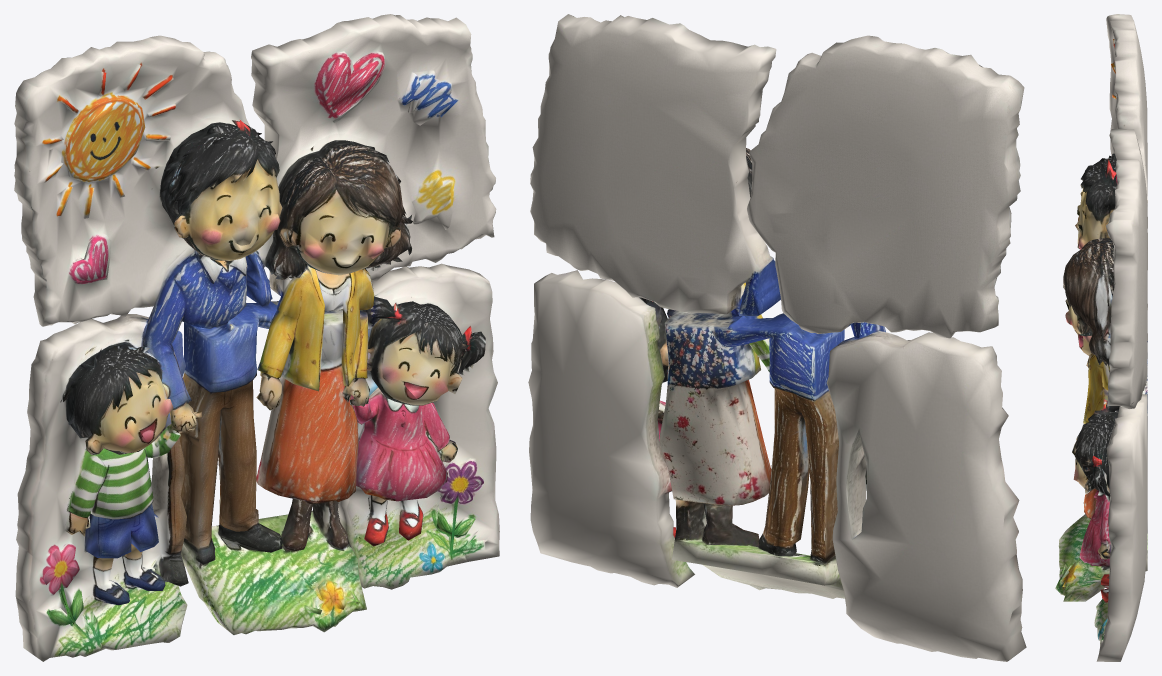
Rendered from tripo_convert_d8b77782-d0fa-4131-bd3d-e82fc1247679.fbx.
The picture shows the model from 3 angles, left to right: view 1: azimuth 30°, elevation 25°; view 2: azimuth 150°, elevation 25°; view 3: azimuth 270°, elevation 25°; orthographic projection. The views are drawn at different scales.
Parts seen in each view (by area): view 1: tripo_part_1, tripo_part_0.001, tripo_part_3, tripo_part_2, tripo_part_0, tripo_part_4; view 2: tripo_part_1, tripo_part_0.001, tripo_part_3, tripo_part_2, tripo_part_0, tripo_part_4; view 3: tripo_part_0.001, tripo_part_2, tripo_part_1, tripo_part_0, tripo_part_3.
Part boxes in pixels (box(x1,y1,x2,y2)): tripo_part_1: box(14, 35, 282, 433); tripo_part_0.001: box(245, 14, 496, 332); tripo_part_3: box(15, 314, 188, 661); tripo_part_2: box(338, 263, 499, 589); tripo_part_0: box(181, 309, 369, 634); tripo_part_4: box(179, 301, 282, 564); tripo_part_1: box(747, 35, 1024, 338); tripo_part_0.001: box(530, 14, 780, 342); tripo_part_3: box(826, 322, 1026, 661); tripo_part_2: box(528, 270, 694, 587); tripo_part_0: box(660, 309, 844, 598); tripo_part_4: box(709, 313, 844, 564); tripo_part_0.001: box(1063, 129, 1147, 408); tripo_part_2: box(1072, 394, 1147, 661); tripo_part_1: box(1075, 14, 1147, 367); tripo_part_0: box(1055, 373, 1147, 601); tripo_part_3: box(1074, 308, 1147, 355).
Size of the model in its own units: 83 by 100 by 17.34.
Materials: 5 (5 with a texture image).
